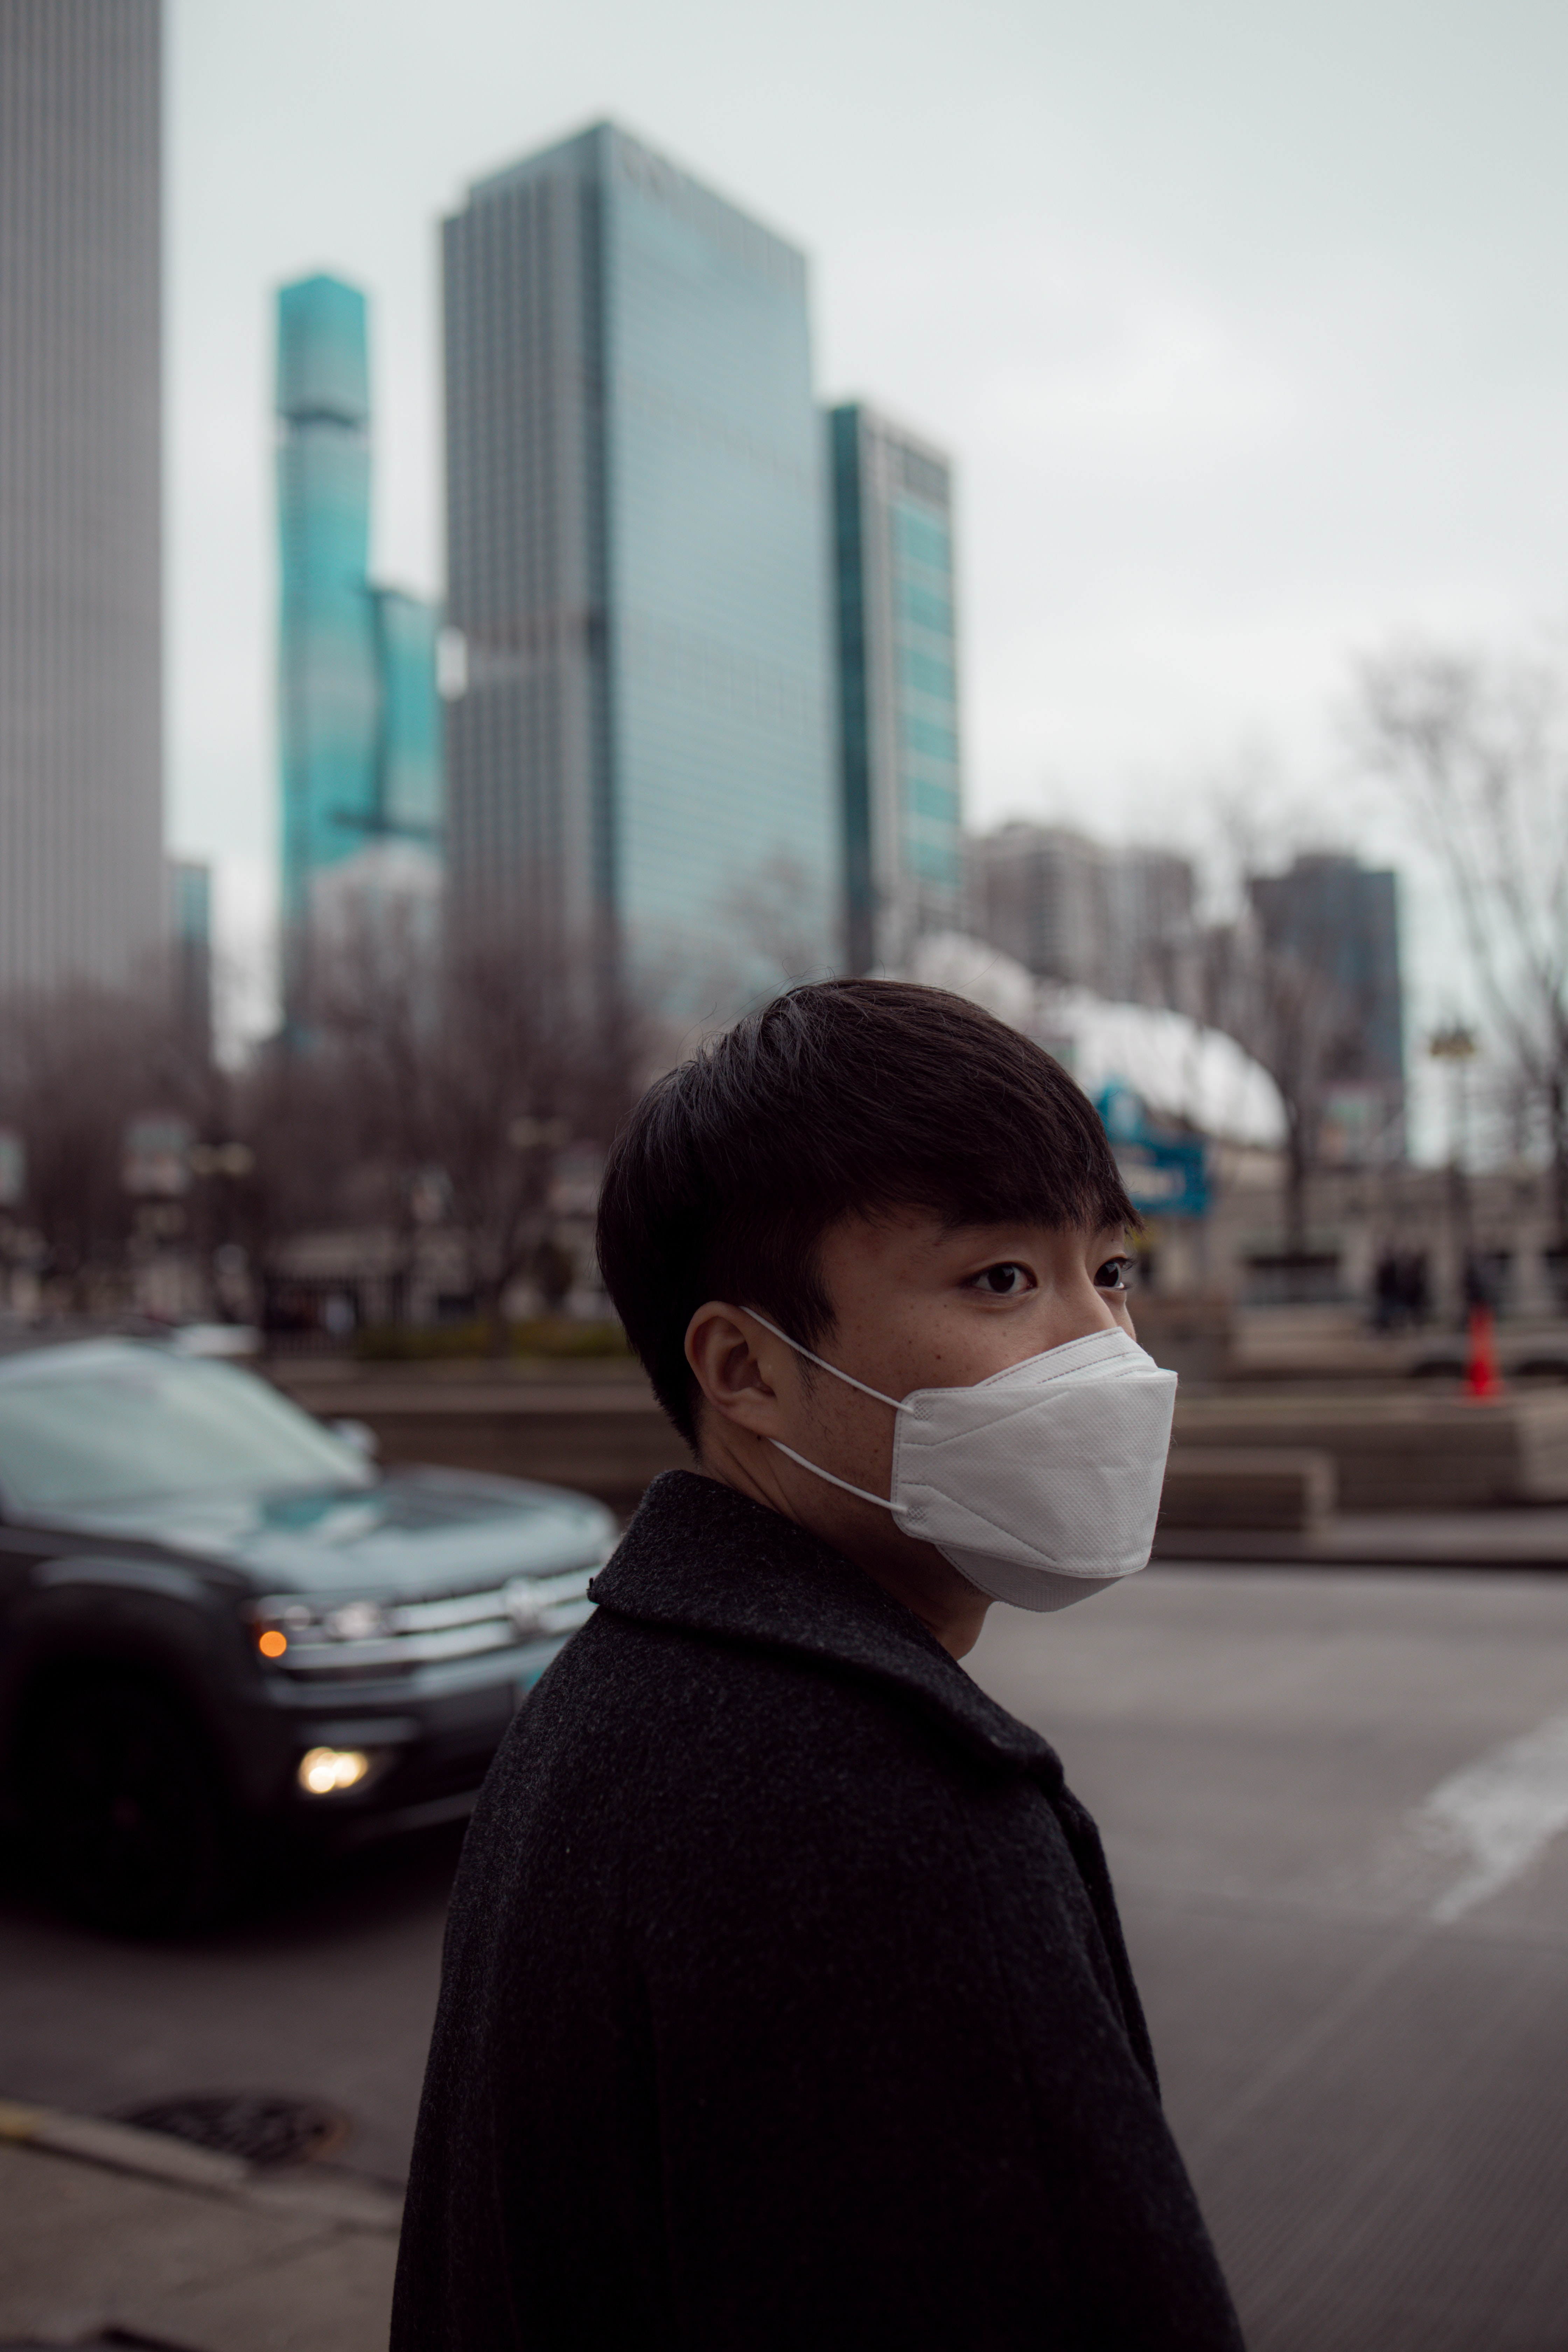mask: (809, 1321, 1247, 1608)
person: (423, 978, 1266, 2352)
